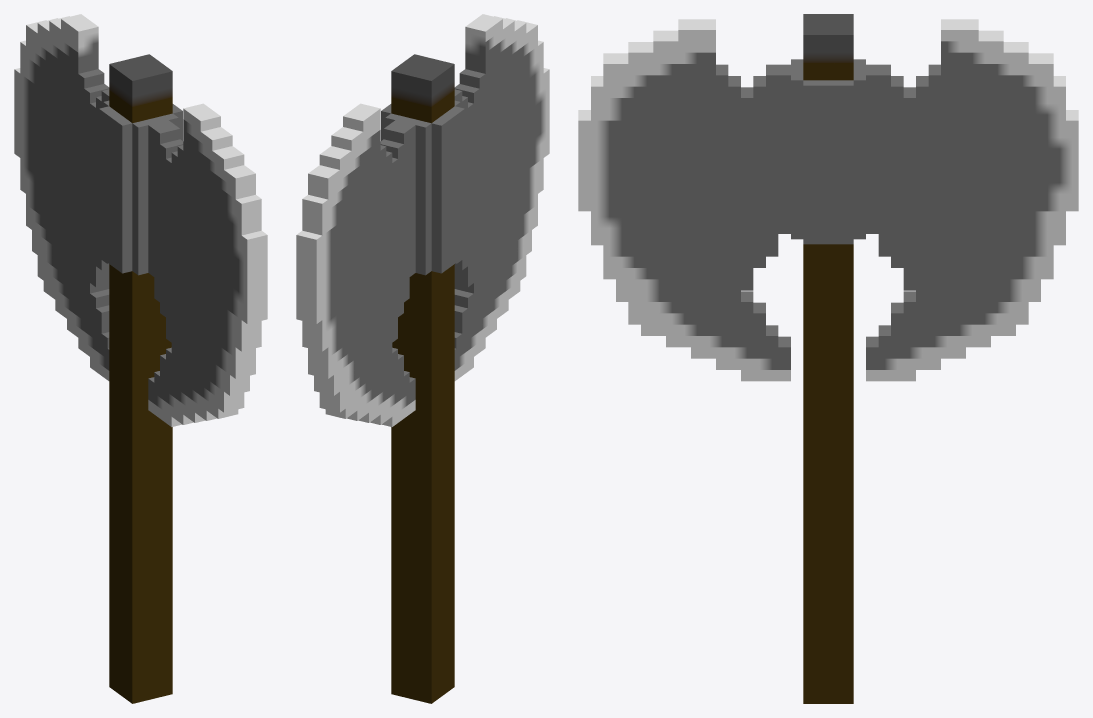
Rendered from Axe.fbx.
3 renders of one model, left to right at view 1: azimuth 30°, elevation 25°; view 2: azimuth 150°, elevation 25°; view 3: azimuth 270°, elevation 25°, orthographic. The views are drawn at different scales.
Visible parts, largest first — view 1: Matrix; view 2: Matrix; view 3: Matrix.
Boxes of the visible parts, x1,y1,x2,y2 form: Matrix: (14,14,267,703); Matrix: (296,14,549,703); Matrix: (578,14,1078,703).
Size of the model in its own units: 6 by 59 by 40.
1 material, 1 textured.
